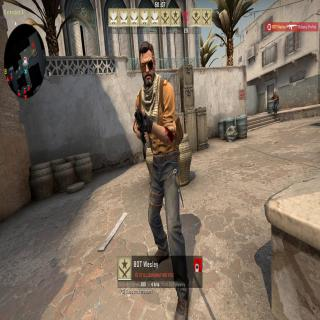T-Body: (135, 38, 191, 318), (271, 90, 280, 116)
T-Head: (138, 41, 157, 89), (274, 89, 277, 95)
